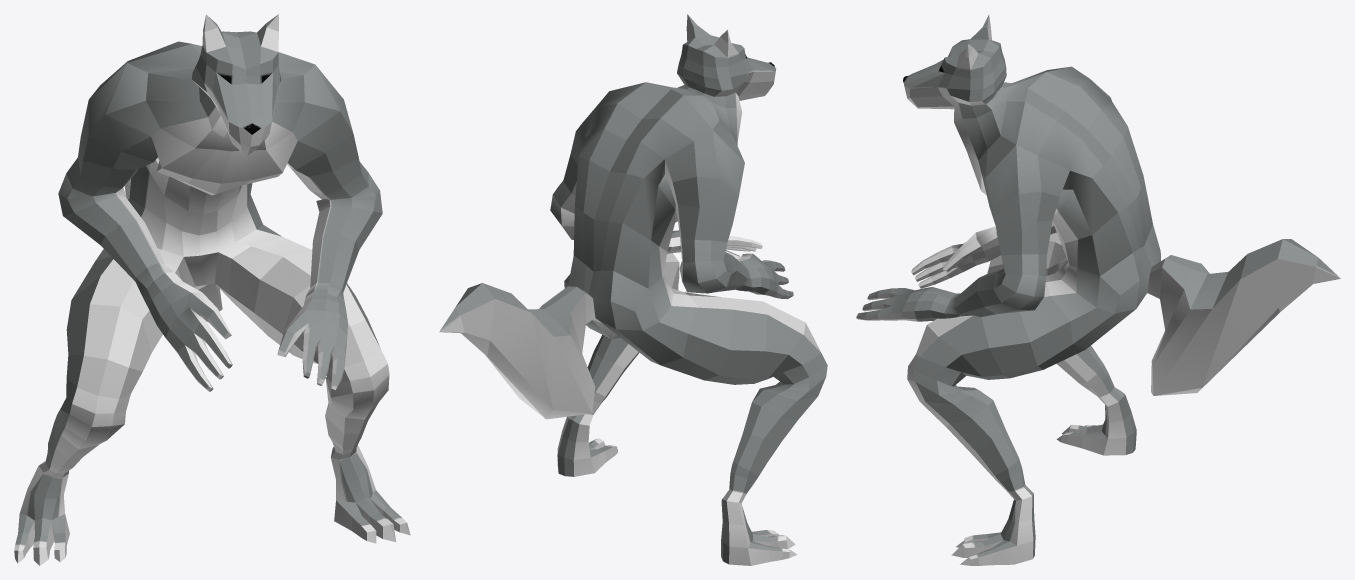
Rendered from WolfAttack(6).obj.
3 views of the same model, side by side, from view 1: azimuth 30°, elevation 25°; view 2: azimuth 150°, elevation 25°; view 3: azimuth 270°, elevation 25° (orthographic). The views are drawn at different scales.
Parts seen in each view (by area): view 1: Box001; view 2: Box001; view 3: Box001.
Part boxes in pixels (<box>): Box001: <box>14,14,410,565</box>; Box001: <box>439,14,827,565</box>; Box001: <box>856,14,1340,565</box>.
Bounding box in the file's own units: 75.24 × 122 × 113.
